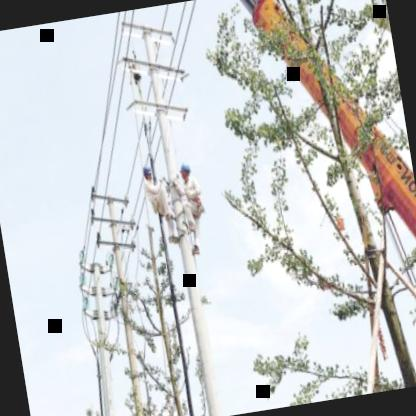helmet: (138, 159, 156, 185), (177, 157, 194, 182)
